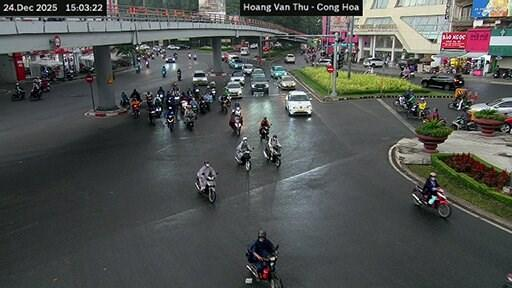motorbike: (246, 244, 281, 286), (412, 184, 450, 216), (195, 175, 214, 202), (450, 113, 476, 129), (394, 90, 413, 111), (406, 103, 429, 118), (234, 149, 249, 171), (262, 147, 278, 166), (448, 98, 472, 109), (394, 94, 408, 111), (28, 86, 41, 99), (231, 117, 240, 135), (220, 95, 230, 111), (147, 108, 156, 125), (198, 99, 208, 112), (10, 90, 24, 99), (185, 116, 194, 130), (502, 273, 511, 287), (259, 126, 267, 140), (66, 68, 76, 79), (166, 113, 172, 130), (41, 79, 50, 90), (131, 104, 138, 117), (189, 103, 198, 113), (502, 68, 511, 77), (154, 104, 160, 117), (120, 97, 128, 106), (399, 72, 413, 77), (160, 68, 166, 76), (492, 70, 499, 76), (135, 64, 140, 72), (176, 72, 181, 80), (144, 59, 149, 67), (211, 86, 214, 99), (246, 248, 249, 256), (188, 53, 191, 58), (192, 54, 195, 59)
